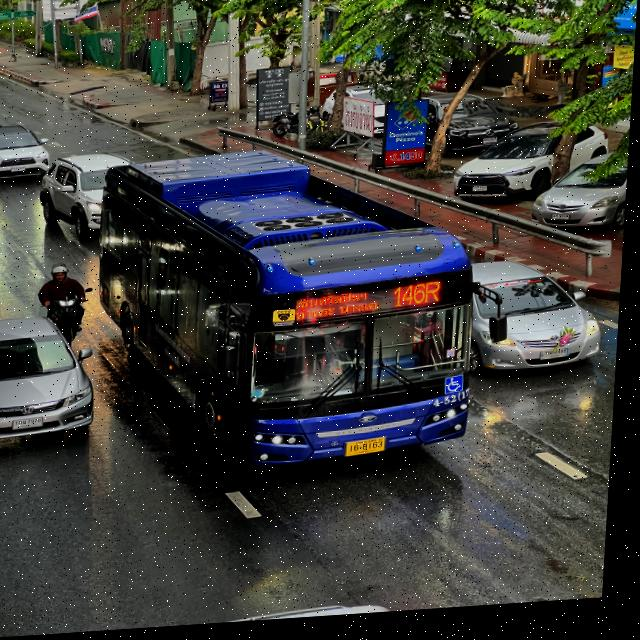Bus-Line-Number: (393, 285, 449, 315)
Destination-Sign-Normal: (298, 289, 384, 328)
TSB-Bus: (88, 145, 488, 484)
